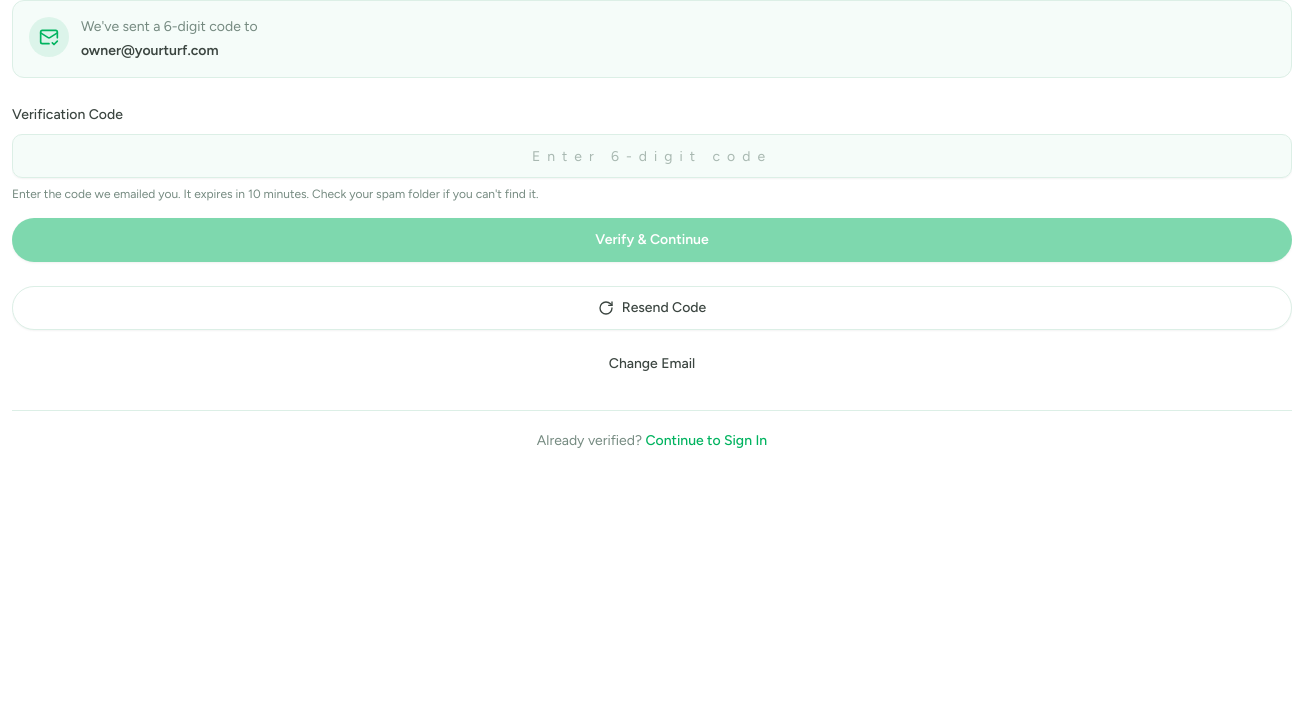
Test case: VerifyEmailPanel › surfaces a rate-limited resend
The image size is (1304, 720).
Click the button "Resend Code": [652, 308] box [12,286,1292,330]
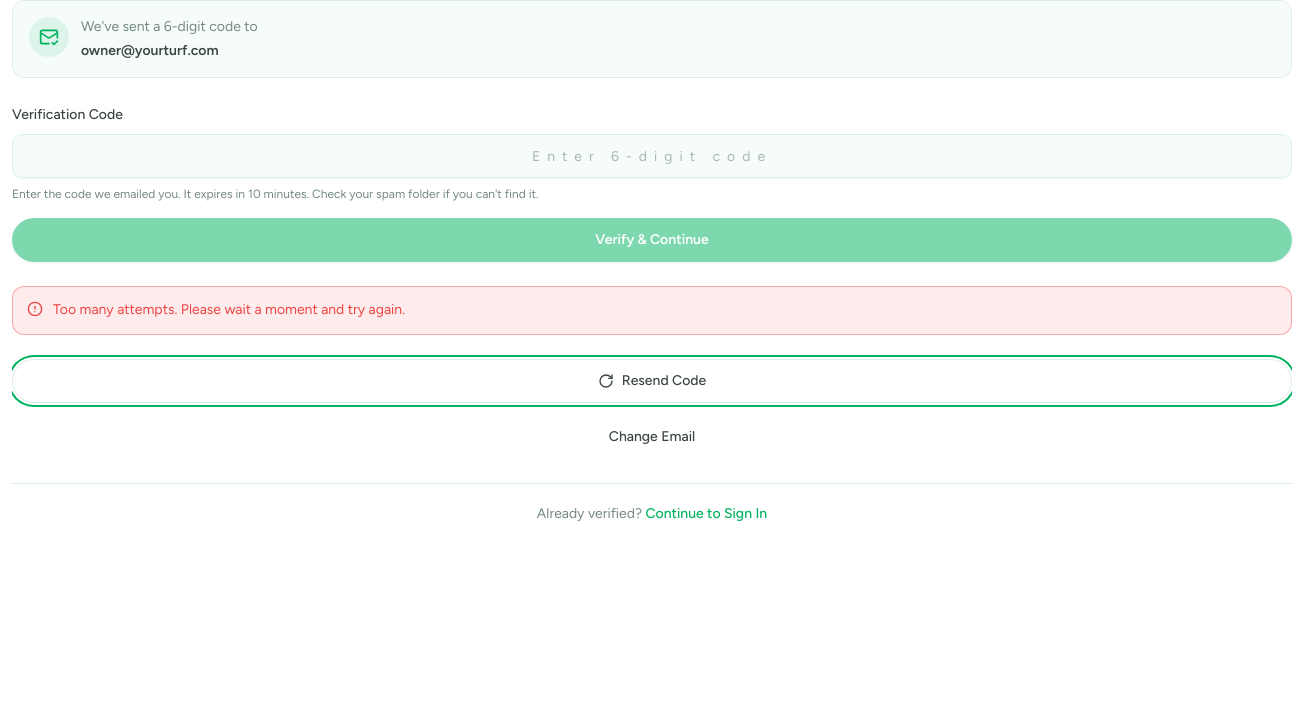
Check: the text "Too many attempts. Please wait a moment and try again." is shown, box [53,299,405,322]
